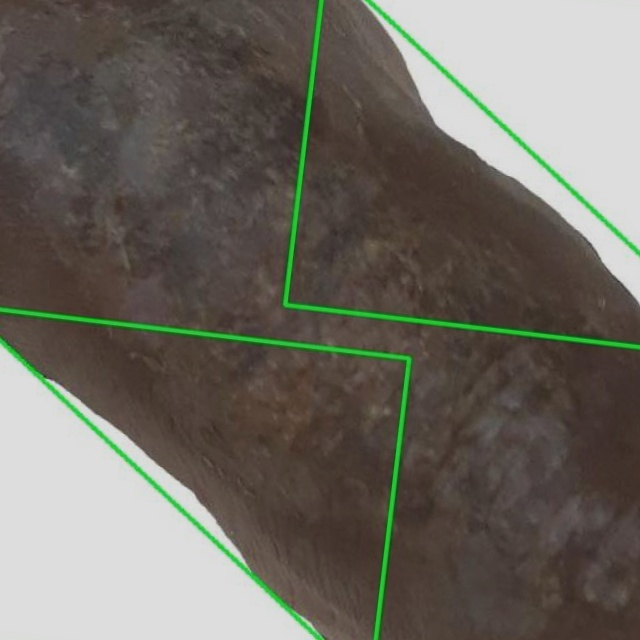Contact Dermatitis: (0, 0, 639, 639), (0, 311, 410, 639), (284, 0, 639, 348)
